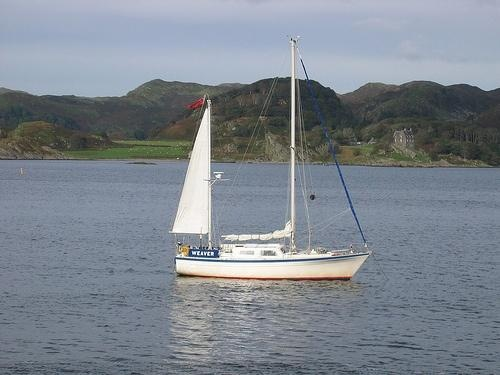boat: (170, 36, 376, 282)
